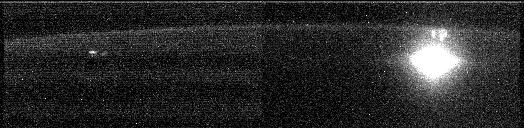positive: (426, 25, 453, 44)
